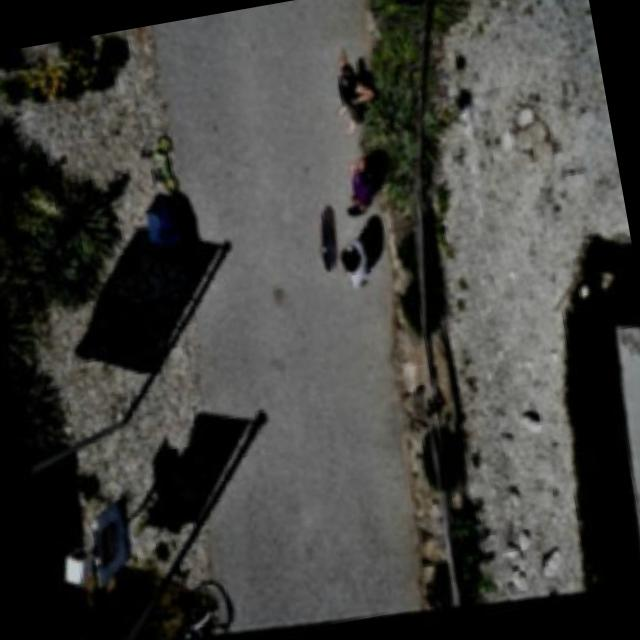Person: (320, 43, 380, 142), (332, 150, 389, 223), (330, 235, 380, 300)
